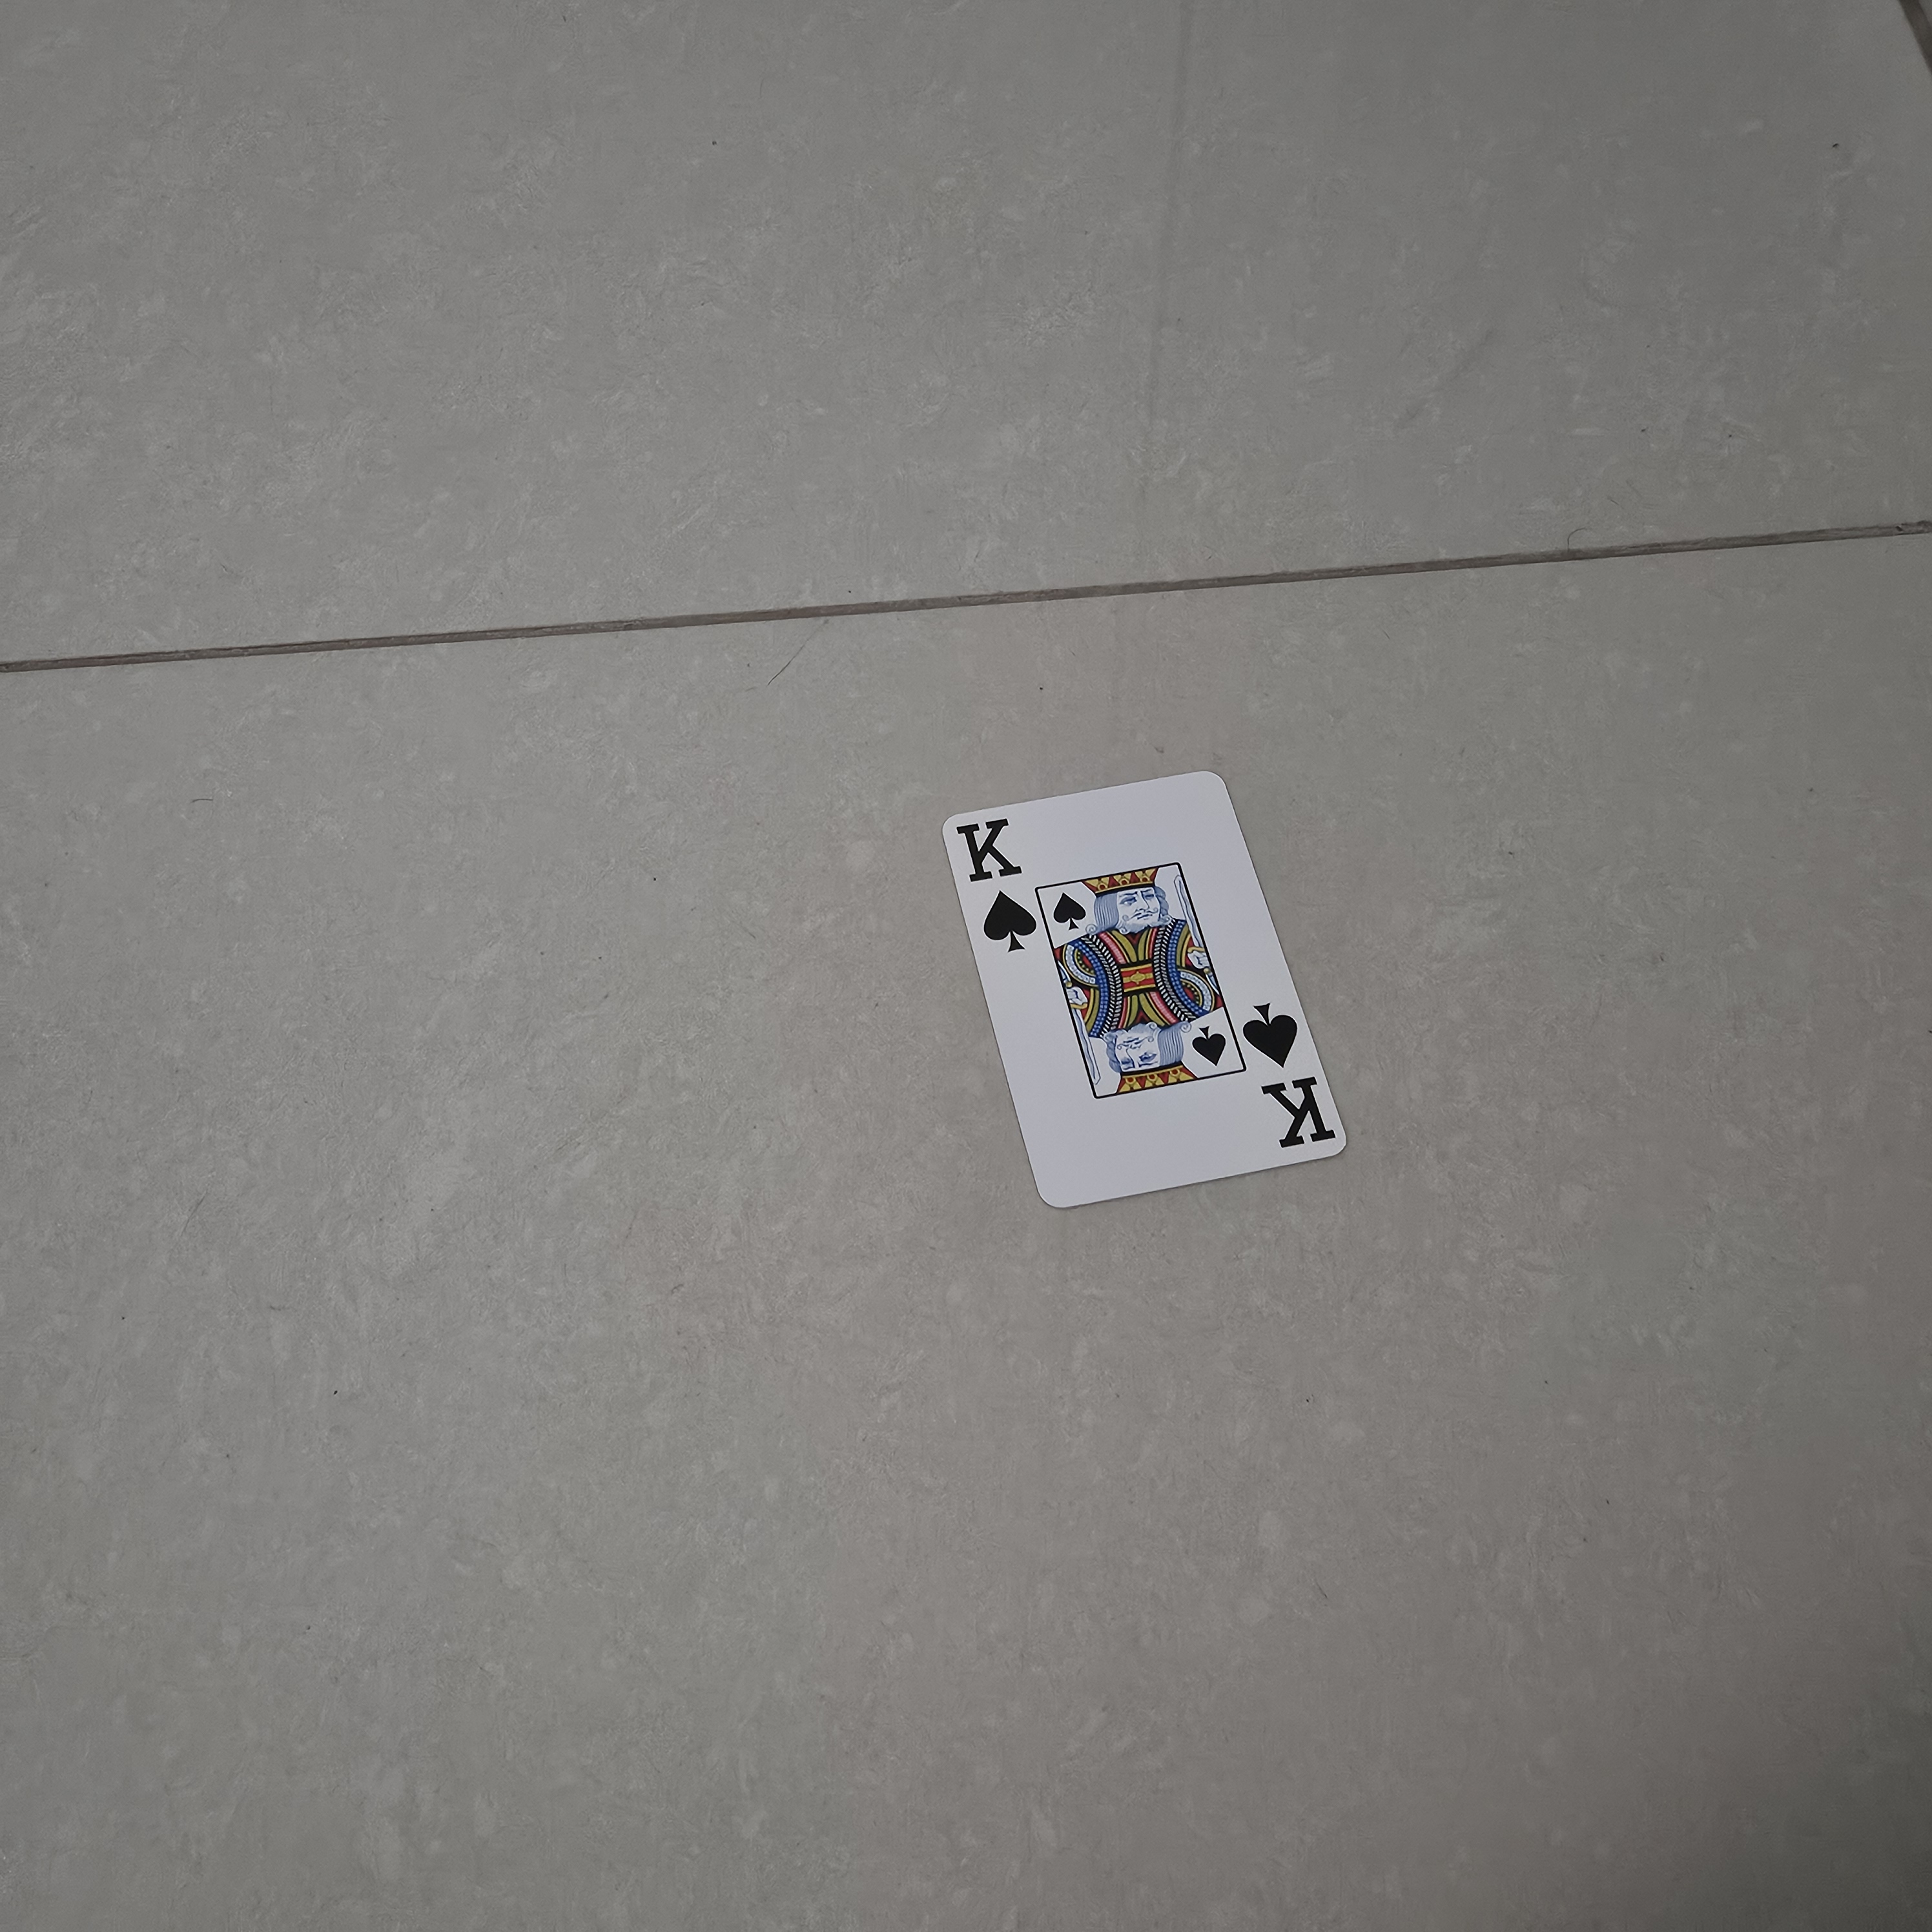KE: (1235, 987, 1352, 1157), (939, 803, 1046, 964)
